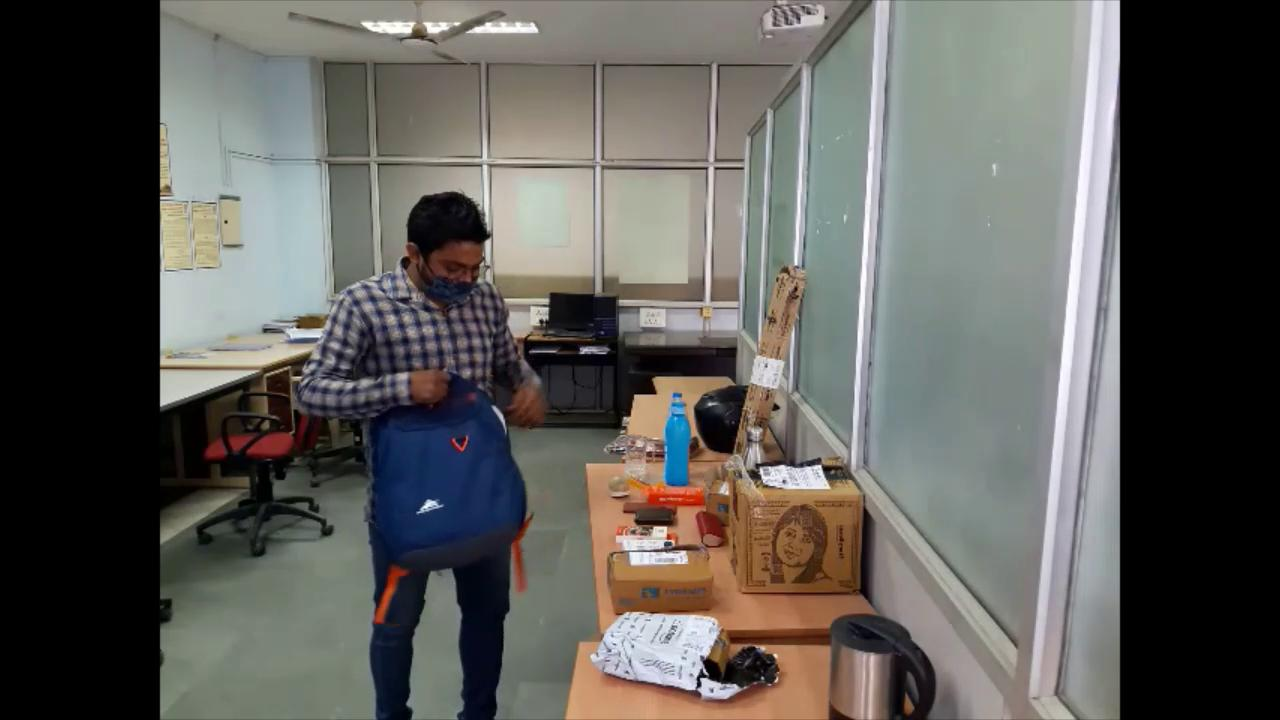shoplifting: (289, 186, 554, 719)
